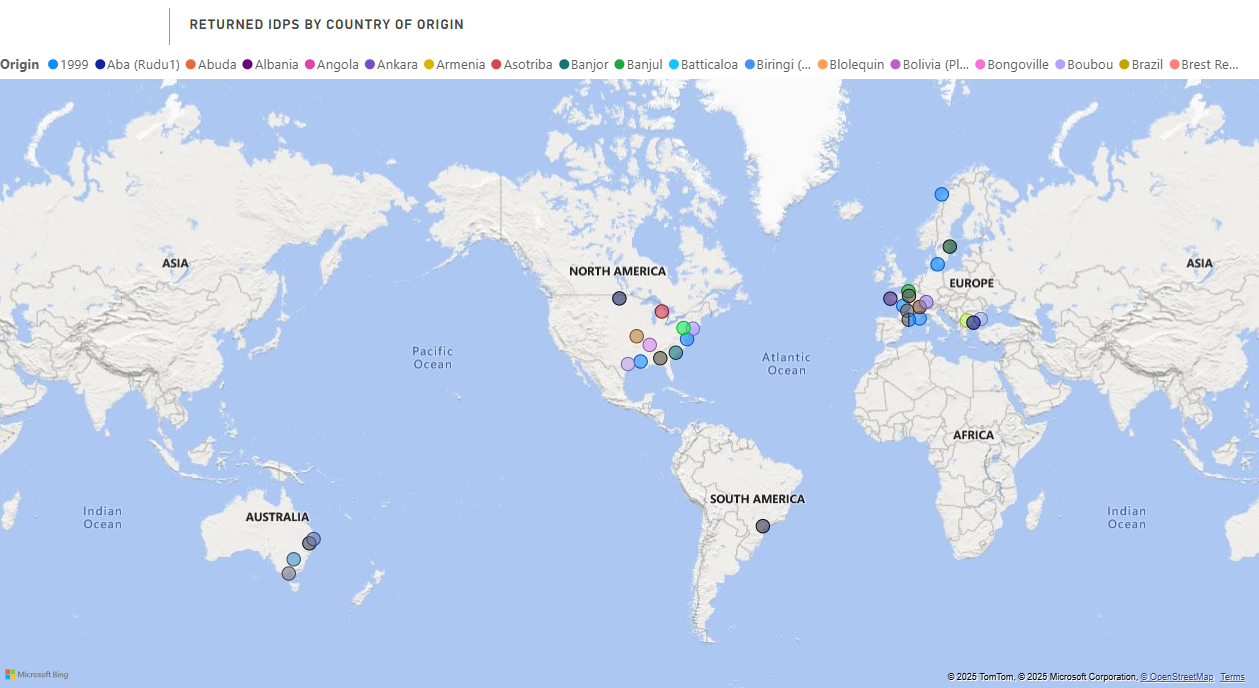

What the dashboard file says about the page in this screenshot:
{"tool":"powerbi","page":{"name":"Returned IDPs by Country of Origin","canvas":[1280,720],"ordinal":1},"visuals":[{"type":"map","title":"Returned IDPs by Country of Origin","fields":{"Series":["project persons_of_concern.Origin"],"Category":["project persons_of_concern.Returned IDPs"]},"box":[10.6,0,1269.7,720.8],"z":0}]}

Visuals, with their boxes in screenshot pixels (x1, y1, x2, y2), scaled from the page's 1280x720 canvas onto the 1259x688 screenshot:
"Returned IDPs by Country of Origin" map: pyautogui.locateOnScreen(10, 0, 1258, 687)
